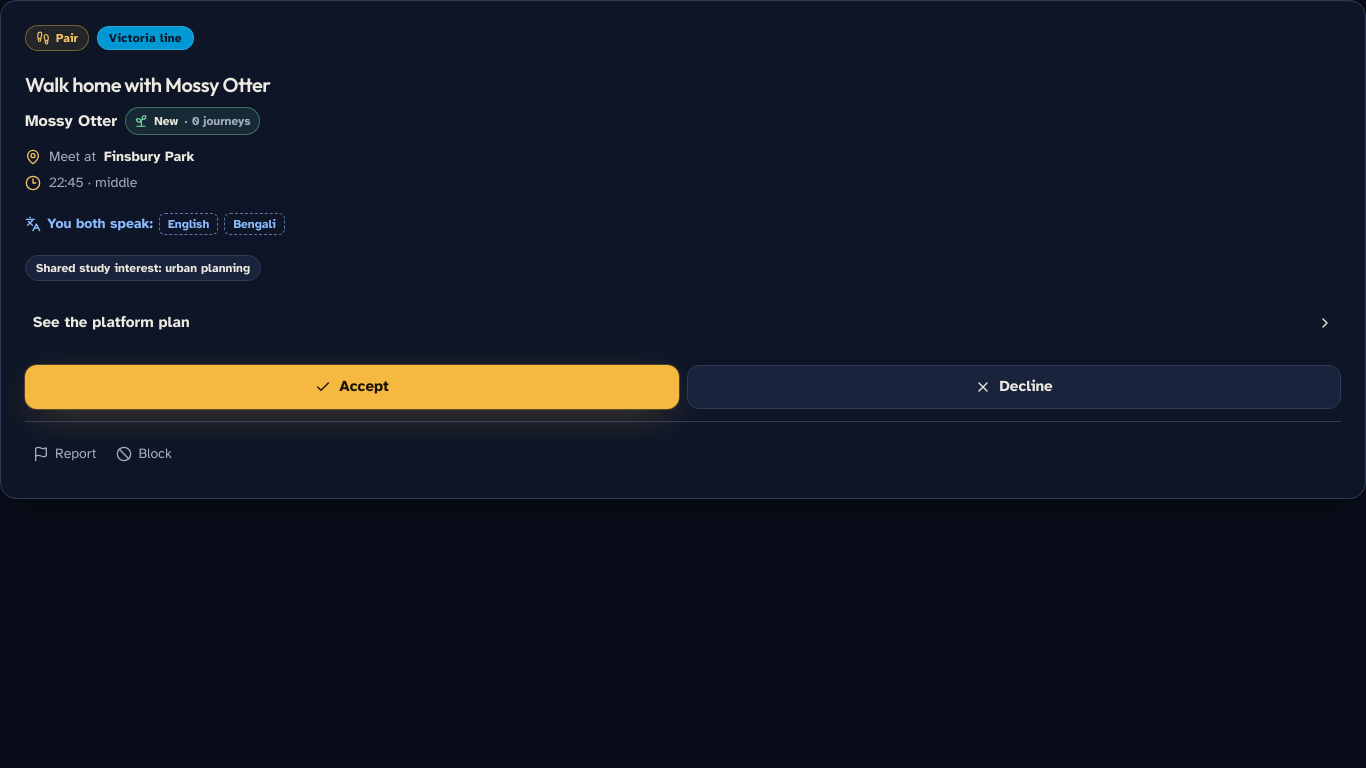
Test: languages on match cards › after mutual accept shows each participant's languages they chose to share
The image size is (1366, 768).
Expected: the text "Sylheti" is not shown
Click the button "Accept": (352, 386) [25,364,679,408]
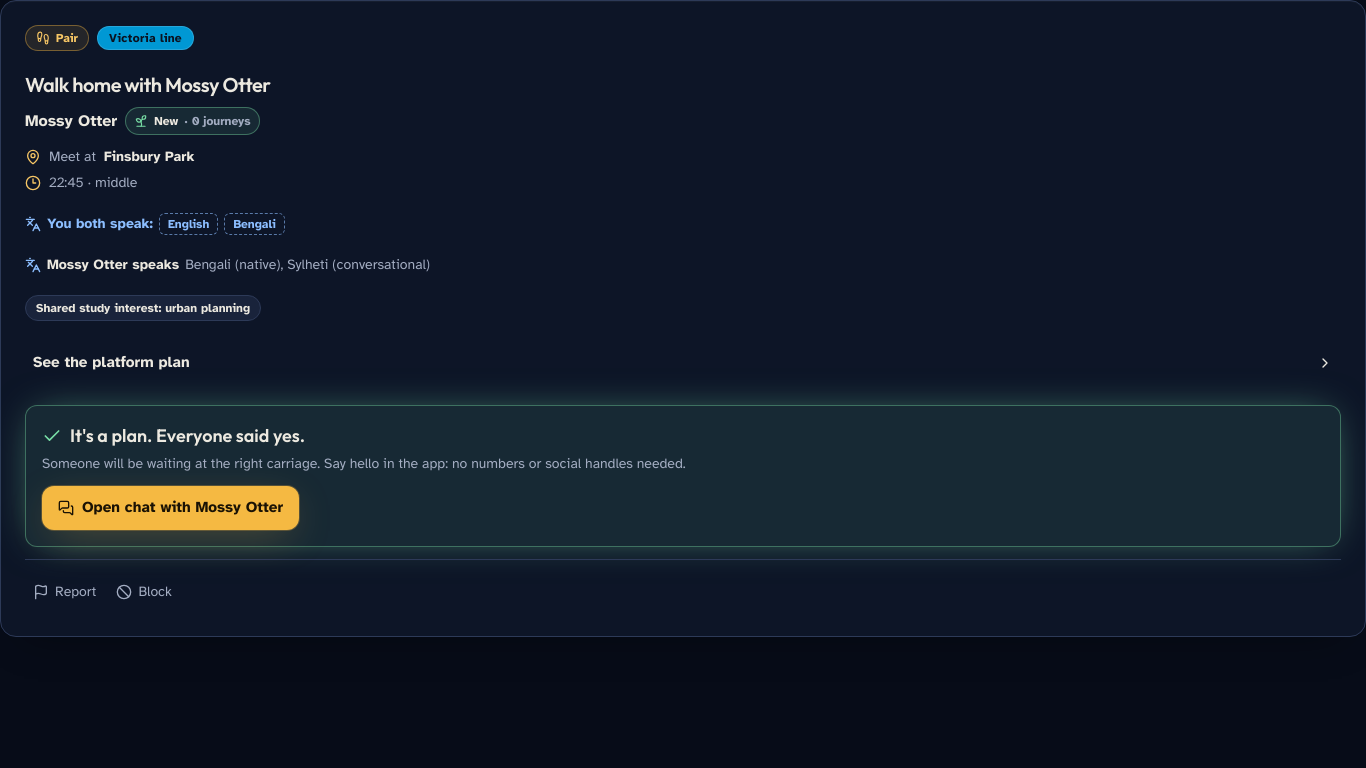
Result: the text "Bengali (native), Sylheti (conversational)" is shown at [185,254,430,274]
